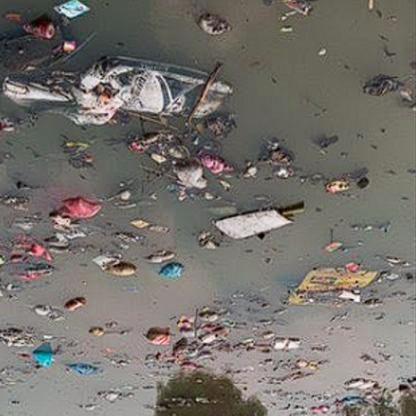Metal: (22, 19, 60, 42), (62, 294, 88, 316), (86, 324, 110, 339)
Plastic: (200, 155, 236, 178), (146, 246, 176, 267)
Trash: (17, 58, 234, 130), (283, 262, 378, 308), (55, 195, 103, 226), (169, 163, 208, 190), (52, 1, 92, 25), (19, 235, 52, 264), (69, 361, 101, 381), (270, 335, 305, 353), (141, 327, 171, 348), (105, 261, 138, 280), (157, 261, 186, 281), (29, 348, 57, 366), (348, 375, 372, 395)
